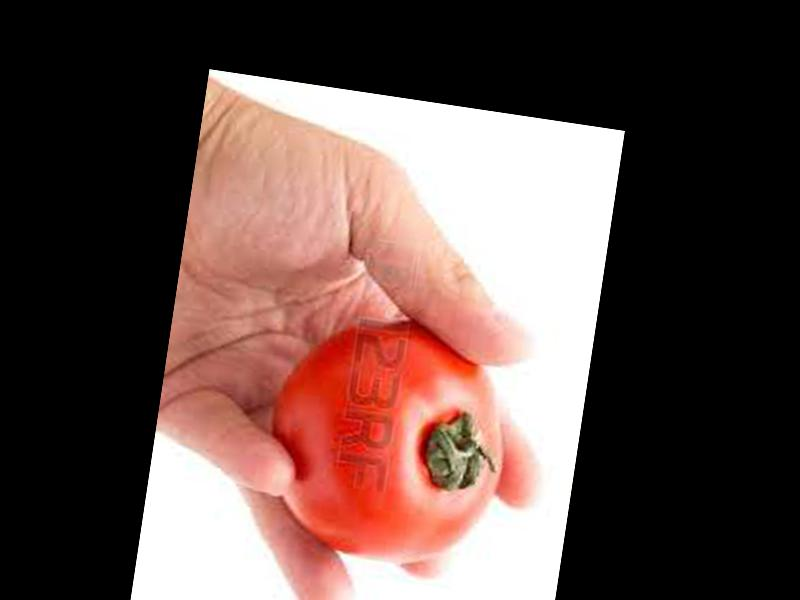Tomato: (255, 306, 520, 577)
